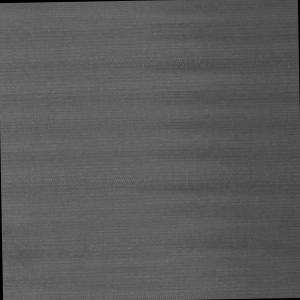Wrinkle: (118, 1, 300, 276), (1, 2, 89, 300)
